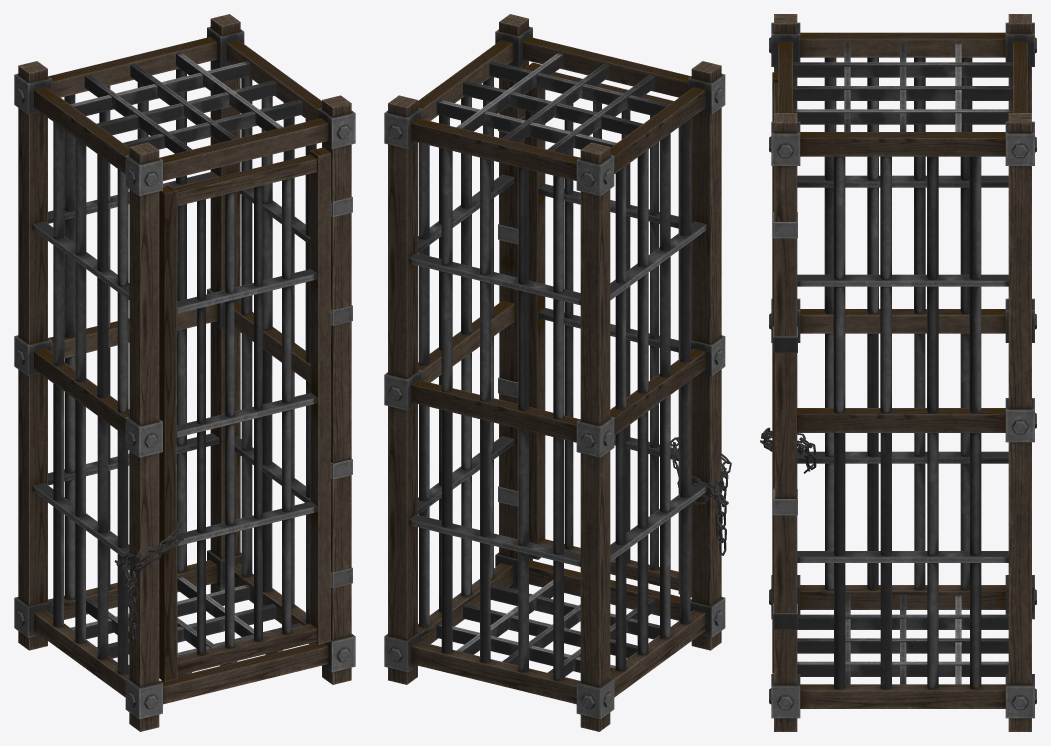
Rendered from cage_wooden_04.fbx.
The picture shows the model from 3 angles, left to right: view 1: azimuth 30°, elevation 25°; view 2: azimuth 150°, elevation 25°; view 3: azimuth 270°, elevation 25°; orthographic projection. The views are drawn at different scales.
Parts seen in each view (by area): view 1: cage_wooden_04, cage_wooden_04_door, cage_wooden_04_chainLock; view 2: cage_wooden_04, cage_wooden_04_door, cage_wooden_04_chainLock; view 3: cage_wooden_04, cage_wooden_04_door, cage_wooden_04_chainLock.
Part boxes in pixels (left/top/right/bottom): cage_wooden_04: left=14, top=14, right=355, bottom=731; cage_wooden_04_door: left=159, top=147, right=332, bottom=682; cage_wooden_04_chainLock: left=114, top=520, right=183, bottom=641; cage_wooden_04: left=384, top=14, right=725, bottom=731; cage_wooden_04_door: left=525, top=62, right=691, bottom=597; cage_wooden_04_chainLock: left=670, top=437, right=731, bottom=555; cage_wooden_04: left=769, top=14, right=1036, bottom=731; cage_wooden_04_door: left=772, top=72, right=778, bottom=673; cage_wooden_04_chainLock: left=760, top=427, right=816, bottom=473.
Bounding box in the file's own units: 200 × 484 × 200.
